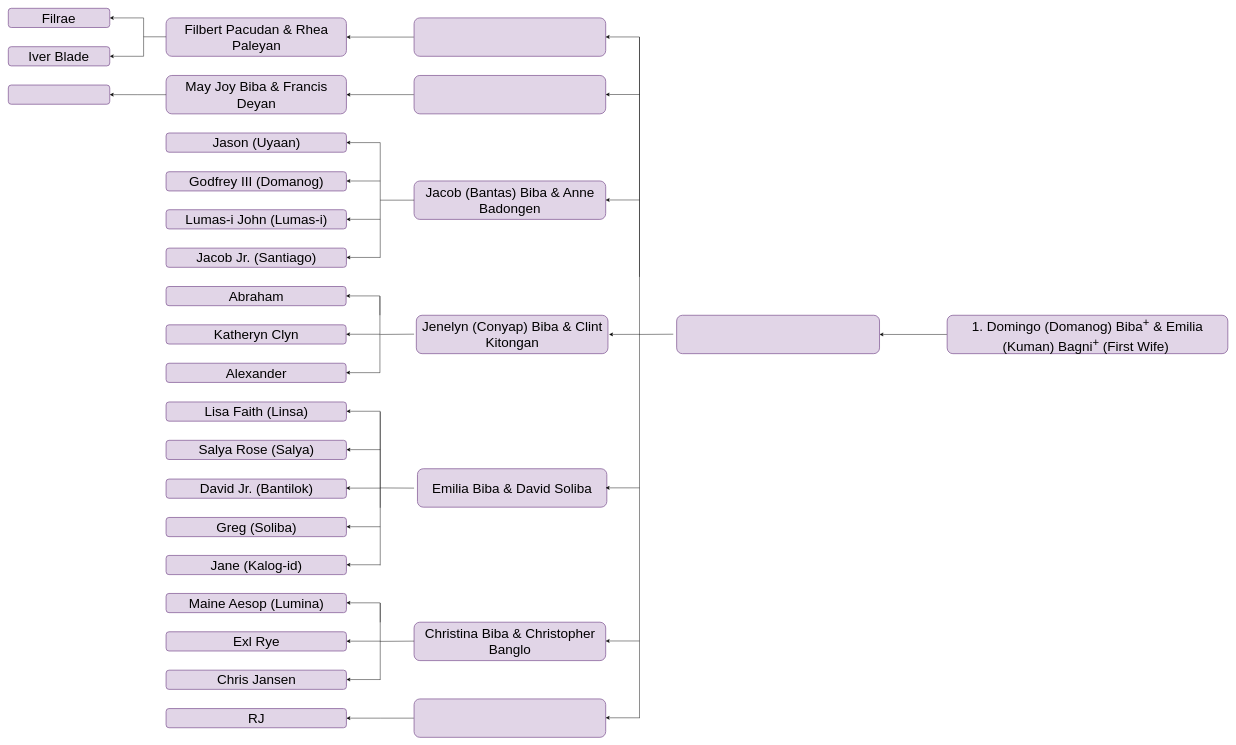
Some shapes in this 1236 by 745 pixel diagram are drawn without their labels. Each missing label, with the box of its shape:
Claire (Ugamay) Biba: (413, 75, 606, 114)
Godfrey (Uyaan) Biba & Luisa Nicanor: (676, 315, 880, 354)
Godfrey Jr. (Marcelo) Biba: (413, 698, 606, 738)
Kyle: (8, 84, 110, 104)
Rose (Salya) Biba & Gilbert Pacudan: (413, 17, 606, 57)
